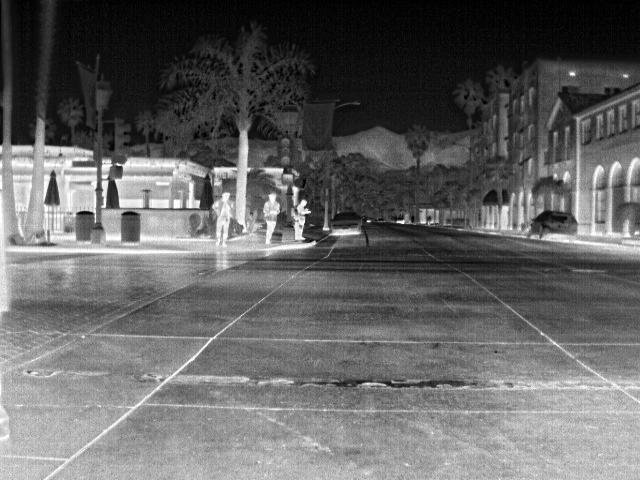car: (529, 210, 580, 243), (331, 210, 363, 235)
person: (211, 192, 235, 248), (262, 192, 280, 247), (292, 198, 312, 243)
